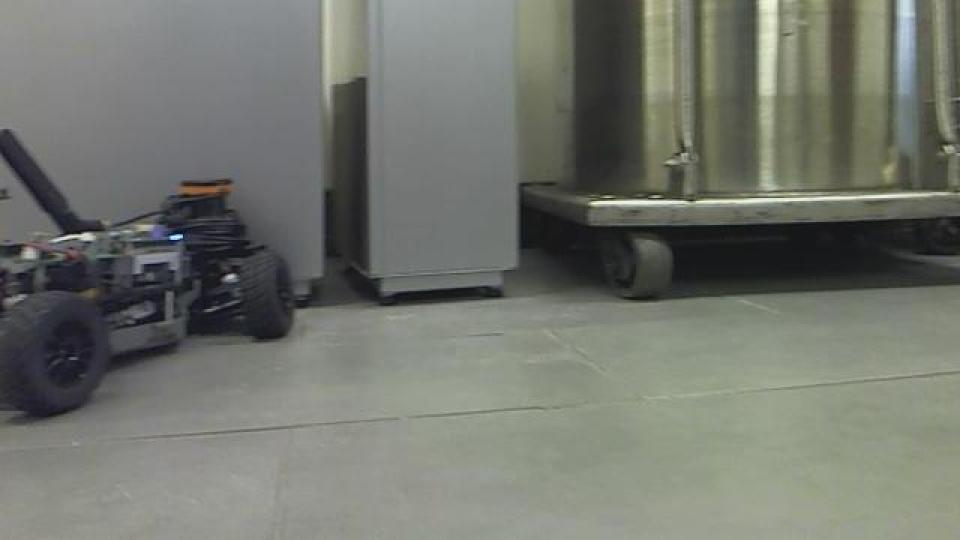car: (516, 1, 957, 302), (0, 126, 298, 420)
